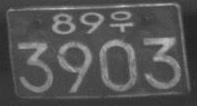0: (97, 38, 138, 92)
3: (142, 35, 182, 90), (16, 41, 54, 94)
8: (51, 13, 75, 35)
9: (56, 40, 92, 93), (79, 11, 104, 34)
우: (109, 9, 133, 33)
